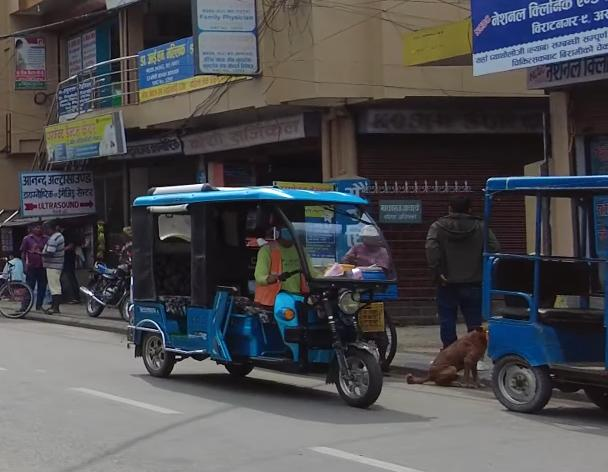e-rickshaw: (124, 176, 407, 420), (480, 171, 608, 433)
